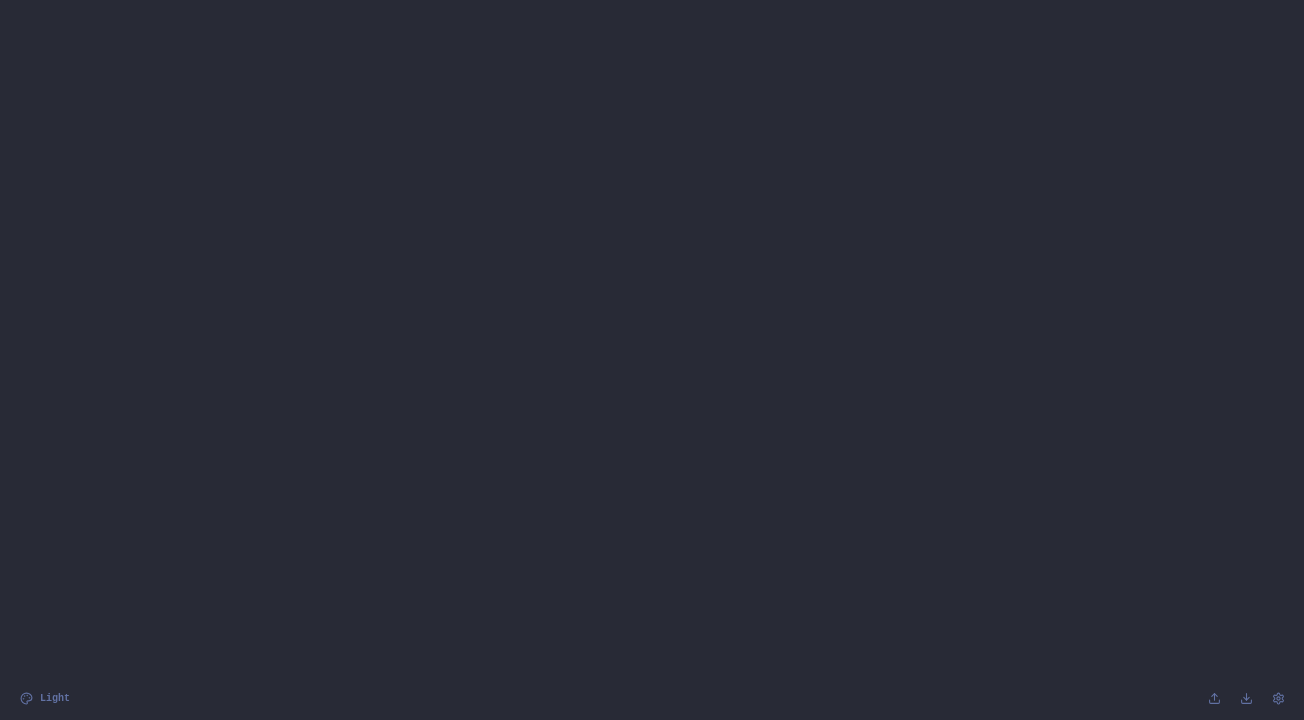
Test case: Settings 采样选择功能 › 多语言与法律文案 › 手动切换语言后应保存偏好并即时切换文案
The width and height of the screenshot is (1304, 720).
Click the button titled "About": (1278, 698) [1264,684,1292,712]
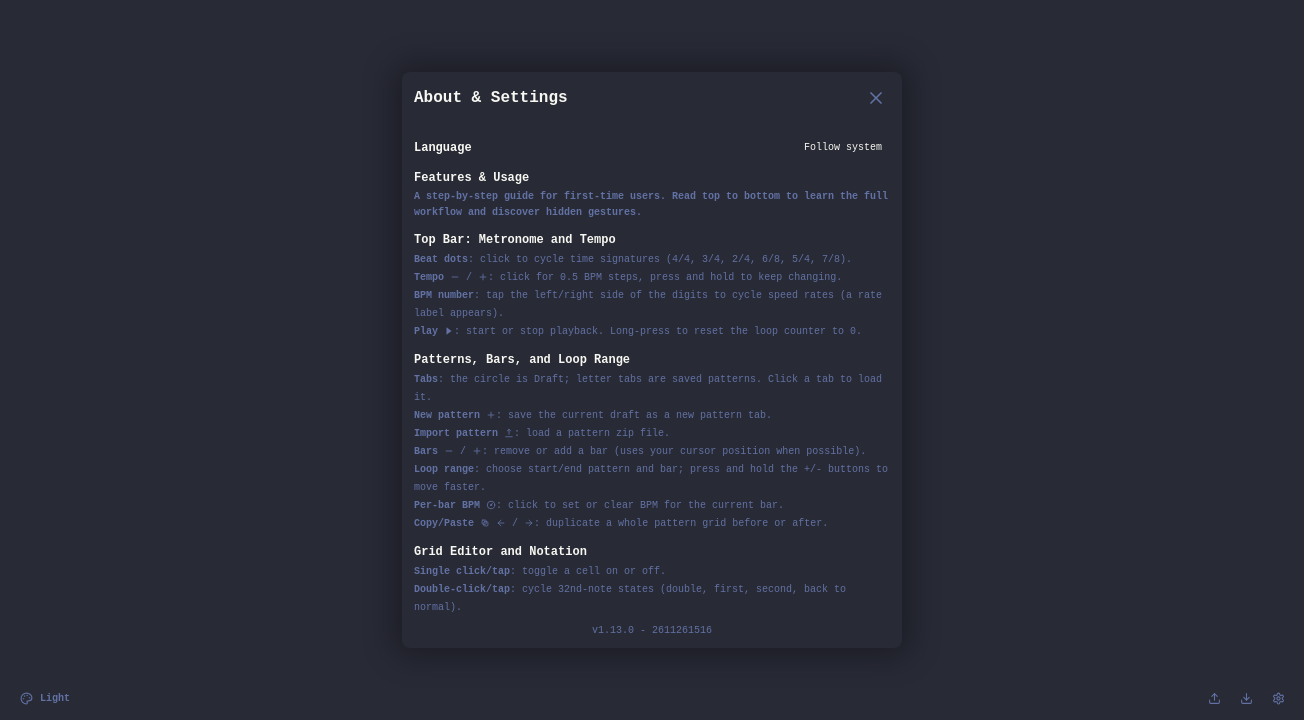
Select "日本語" in the dropdown with test id "settings-language-select": (834, 148) [777,136,890,159]
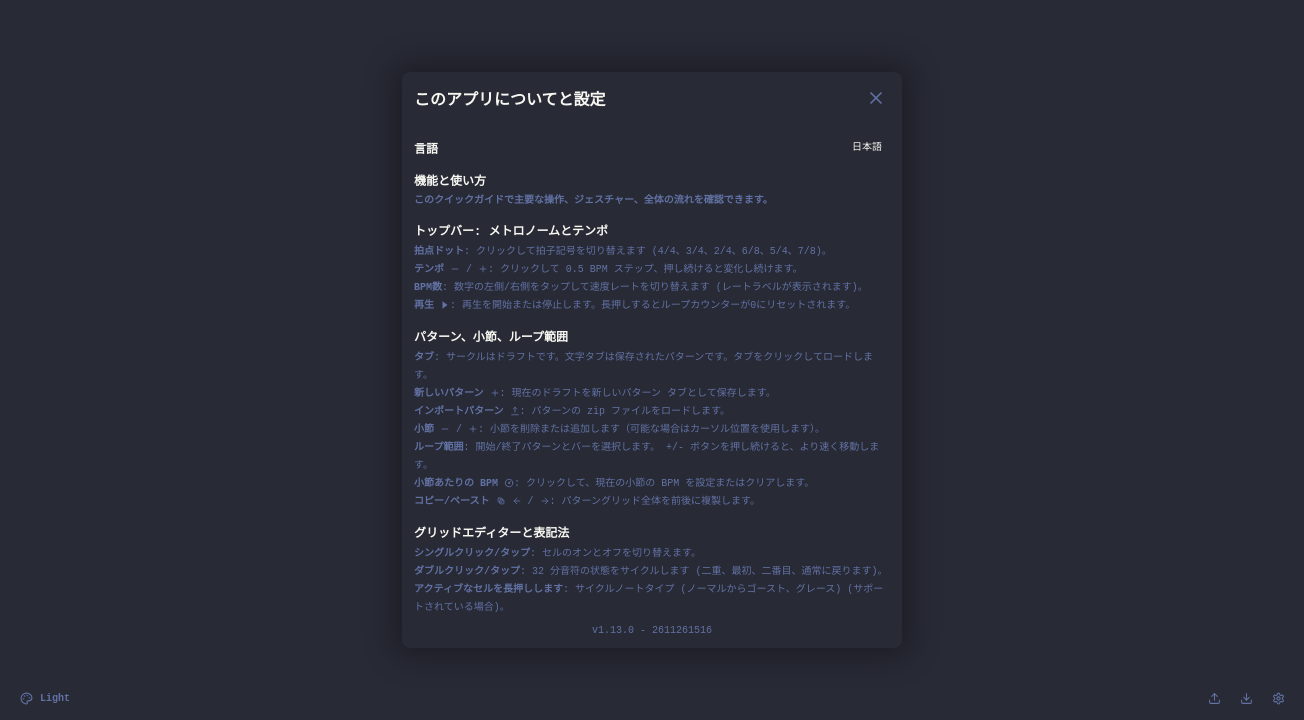
expect the heading "機能と使い方" is shown: met, box [414,175,486,189]
